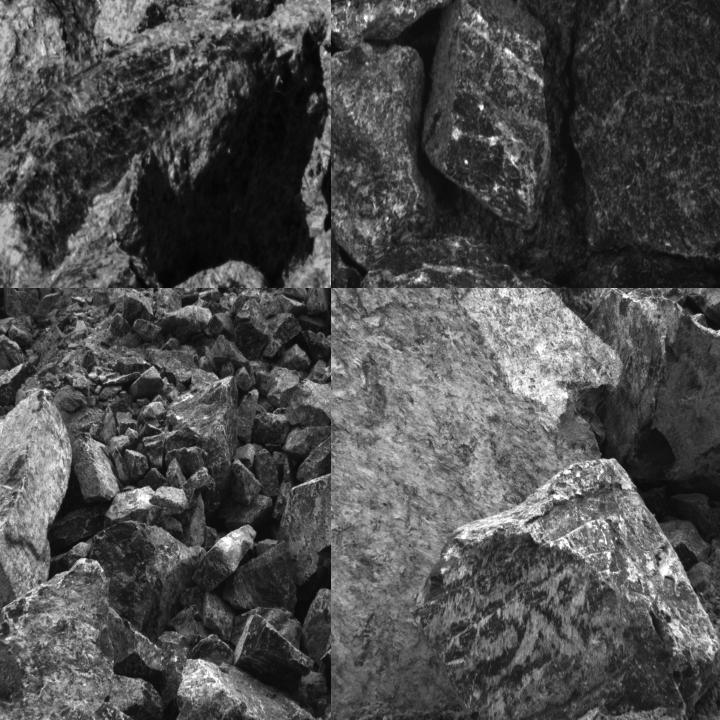stone: (331, 288, 621, 719), (417, 460, 719, 719), (0, 18, 281, 287), (568, 0, 719, 261), (422, 0, 554, 229), (331, 41, 437, 269), (556, 288, 665, 469), (0, 556, 116, 719), (0, 387, 71, 641), (633, 288, 719, 490), (60, 521, 207, 638), (364, 235, 599, 287), (166, 374, 238, 506), (164, 659, 322, 719), (282, 436, 330, 601), (233, 612, 315, 684), (331, 0, 450, 49), (223, 541, 298, 617), (194, 524, 256, 594), (75, 435, 122, 500), (667, 288, 719, 340), (234, 298, 273, 362), (288, 379, 330, 427)
